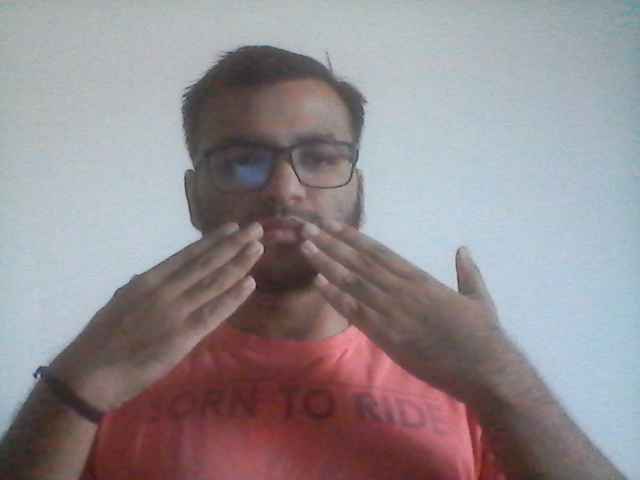Yes: (45, 207, 545, 413)
